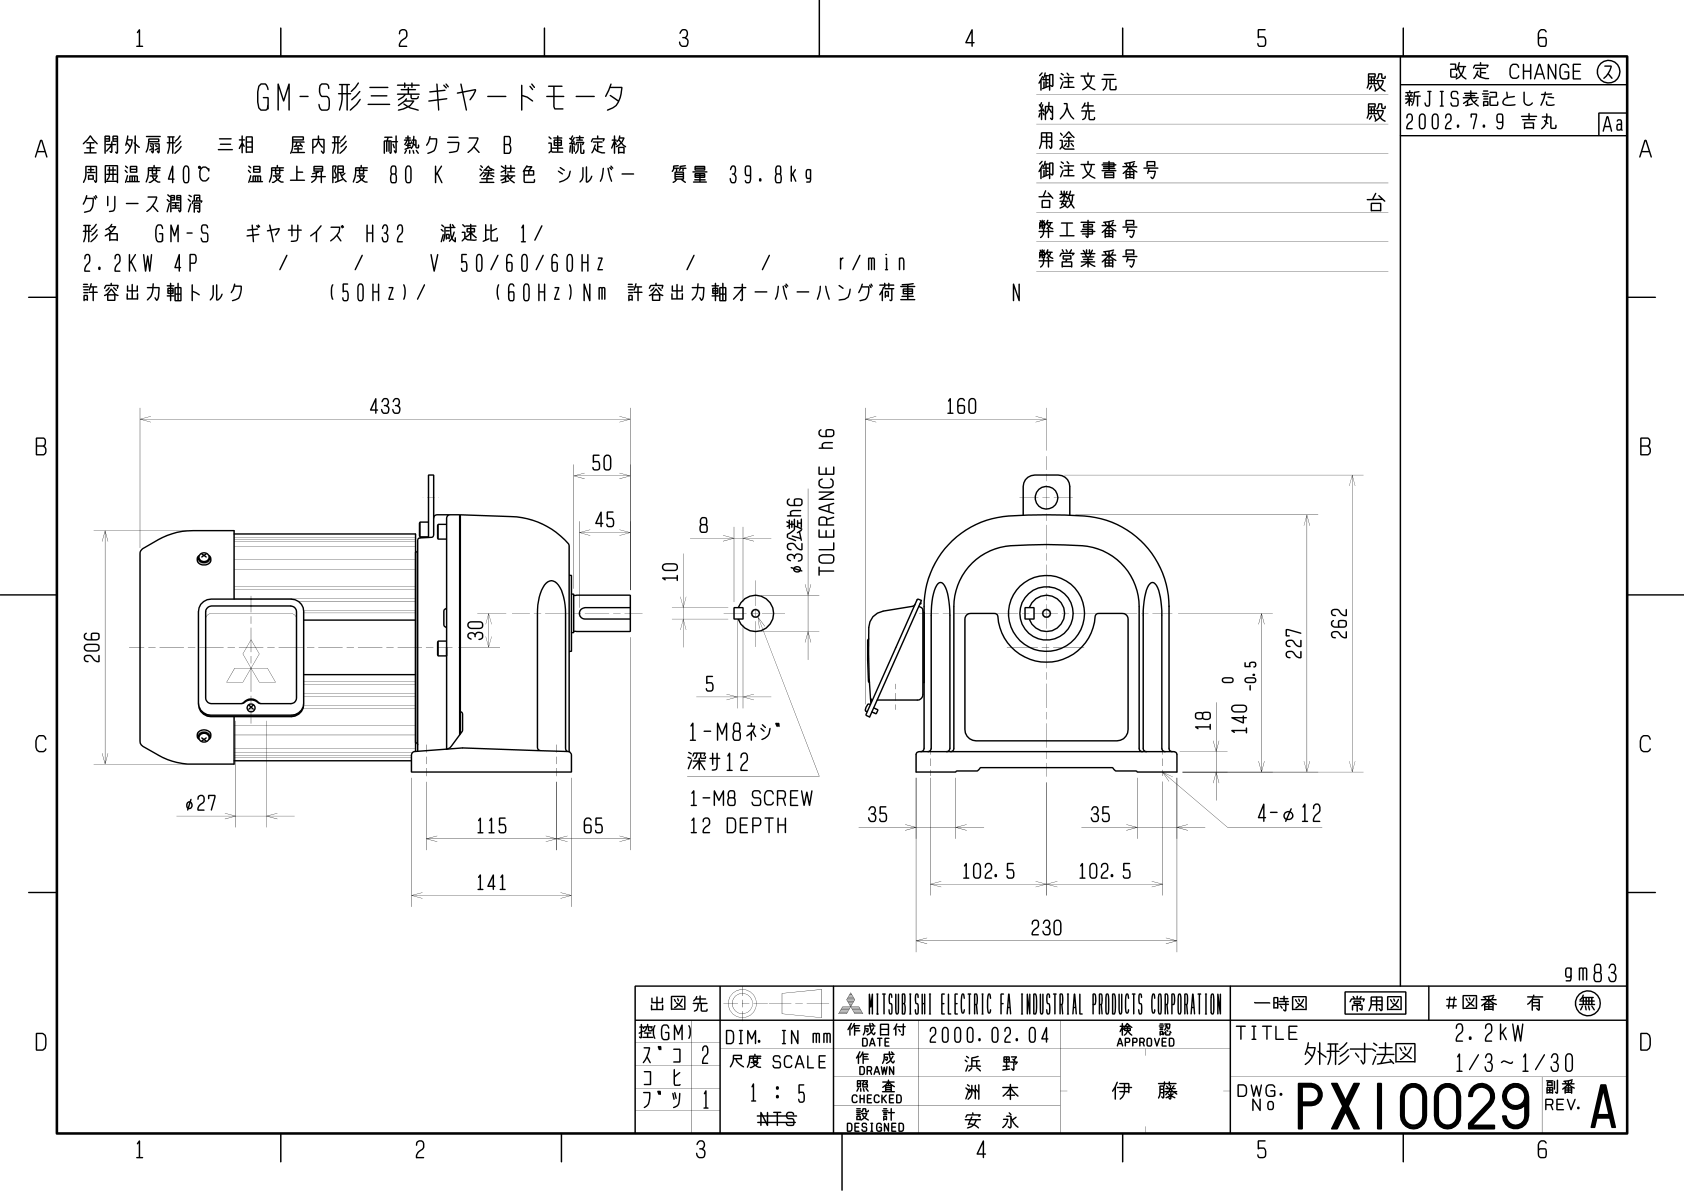GM_S_屋内＿三相_脚: (73, 336, 1381, 959)
